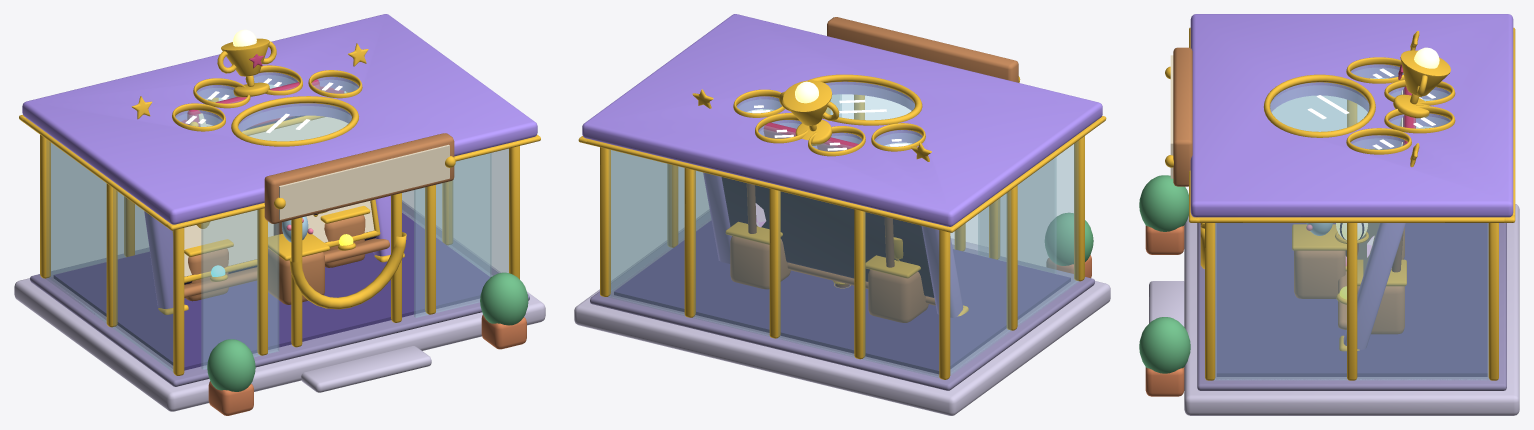
Rendered from props.glb.
The picture shows the model from 3 angles, left to right: view 1: azimuth 30°, elevation 25°; view 2: azimuth 150°, elevation 25°; view 3: azimuth 270°, elevation 25°; orthographic projection. The views are drawn at different scales.
Visible parts, largest first — view 1: Hall_D, Board_A; view 2: Hall_D, Board_A; view 3: Hall_D, Board_A, Lamp_B.
Boxes of the visible parts, x1,y1,x2,y2 form: Hall_D: [14, 14, 545, 415]; Board_A: [131, 29, 404, 314]; Hall_D: [574, 14, 1110, 415]; Board_A: [692, 80, 968, 317]; Hall_D: [1139, 14, 1519, 415]; Board_A: [1336, 31, 1450, 351]; Lamp_B: [1335, 223, 1368, 256].
Bounding box in the file's own units: 7.2 × 4.64 × 5.9.
